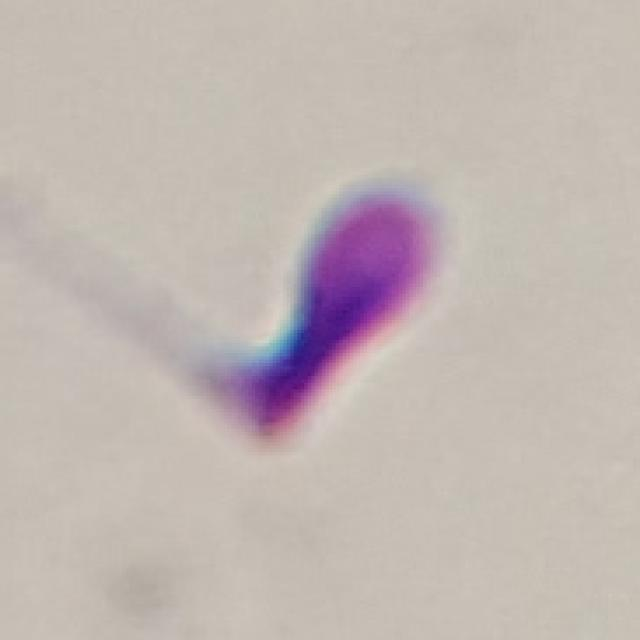abnormal sperm: (0, 156, 455, 446)
